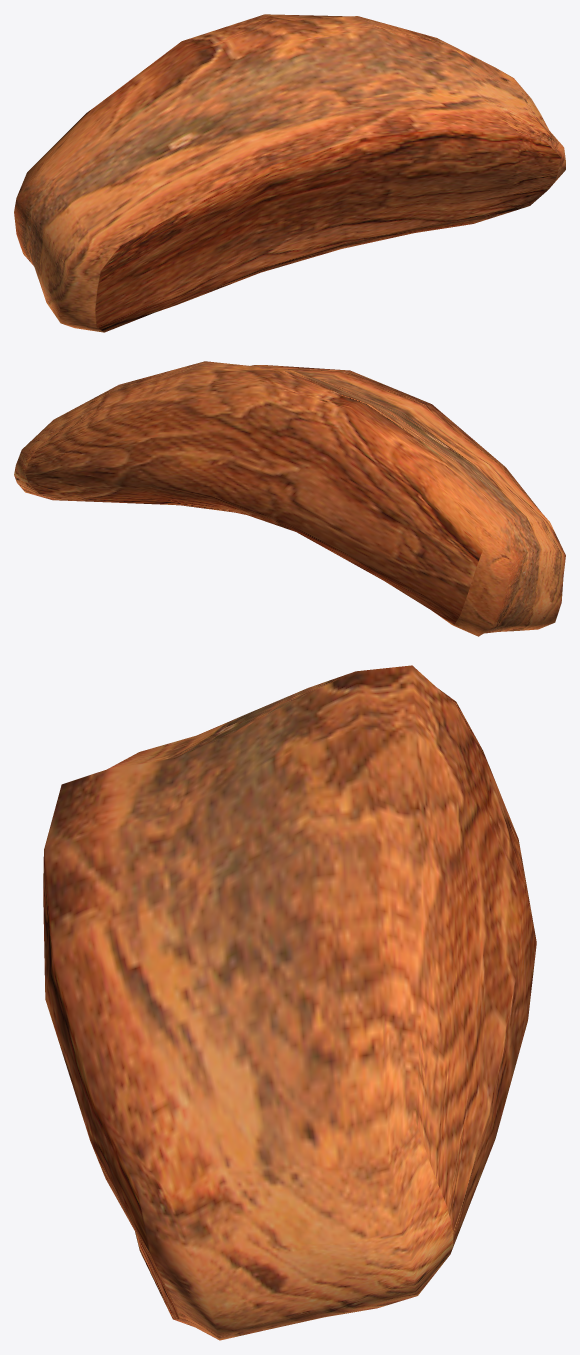
Rendered from CanyonRock.fbx.
3 renders of one model, top to bottom at view 1: azimuth 30°, elevation 25°; view 2: azimuth 150°, elevation 25°; view 3: azimuth 270°, elevation 25°, orthographic. The views are drawn at different scales.
Visible parts, largest first — view 1: pCube8; view 2: pCube8; view 3: pCube8.
Part boxes in pixels (x1,y1,x2,y2): pCube8: (14,14,565,332); pCube8: (14,361,565,636); pCube8: (43,665,536,1340).
Bounding box in the file's own units: 3.12 × 1.33 × 1.34.
1 material, 1 textured.
